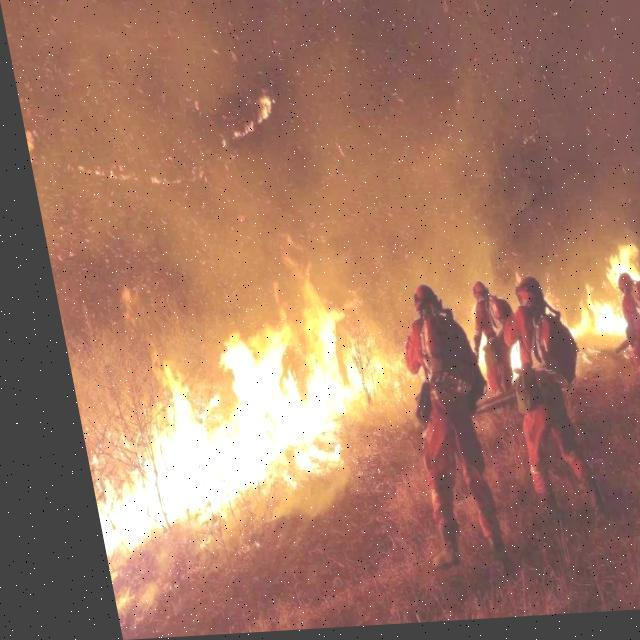Fire: (49, 283, 386, 557), (542, 249, 639, 351)
